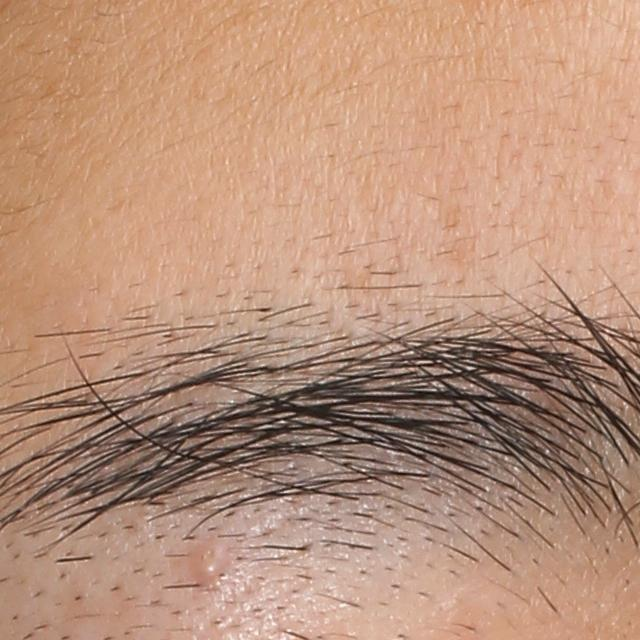papule: (184, 543, 232, 589)
